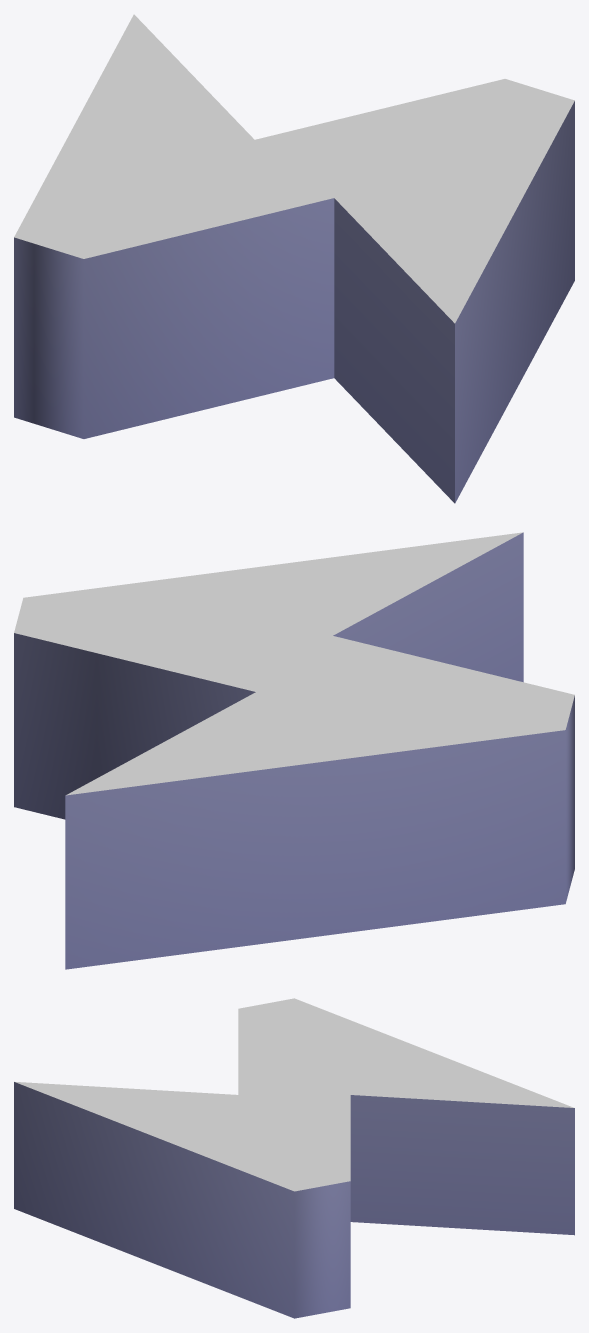
Rendered from shape-power.glb.
3 renders of one model, top to bottom at view 1: azimuth 30°, elevation 25°; view 2: azimuth 150°, elevation 25°; view 3: azimuth 270°, elevation 25°, orthographic. The views are drawn at different scales.
Visible parts, largest first — view 1: shape-power; view 2: shape-power; view 3: shape-power.
Boxes of the visible parts, x1,y1,x2,y2 form: shape-power: [14, 14, 574, 503]; shape-power: [14, 532, 574, 969]; shape-power: [14, 998, 574, 1318].
Bounding box in the file's own units: 0.2037 × 0.0625 × 0.25.
